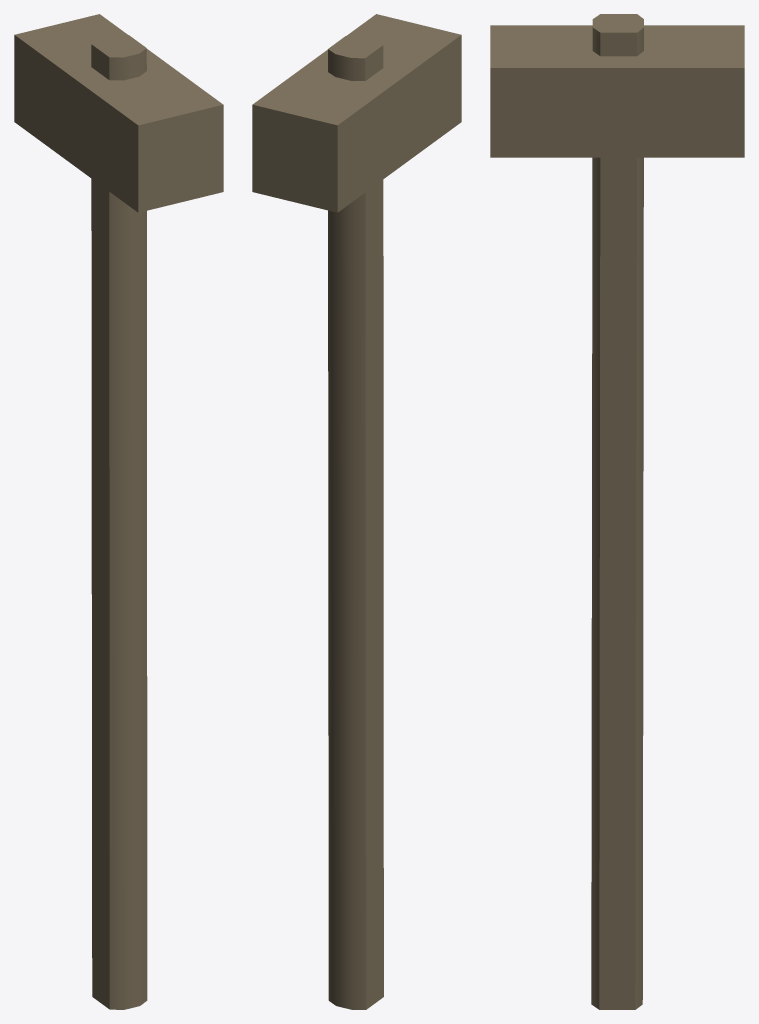
File: Sledgehammer.obj
3 renders of one model, left to right at view 1: azimuth 30°, elevation 25°; view 2: azimuth 150°, elevation 25°; view 3: azimuth 270°, elevation 25°, orthographic. The views are drawn at different scales.
Parts seen in each view (by area): view 1: Sledgehammer; view 2: Sledgehammer; view 3: Sledgehammer.
Boxes of the visible parts, left/top/right/bottom form: Sledgehammer: left=14, top=14, right=223, bottom=1009; Sledgehammer: left=252, top=14, right=461, bottom=1009; Sledgehammer: left=490, top=14, right=744, bottom=1009.
Size of the model in its own units: 0.4406 by 4.71 by 1.11.
